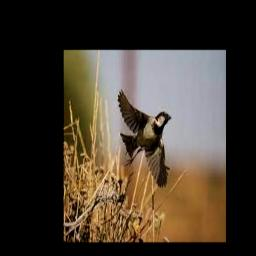Sparrow: (118, 89, 172, 187)
